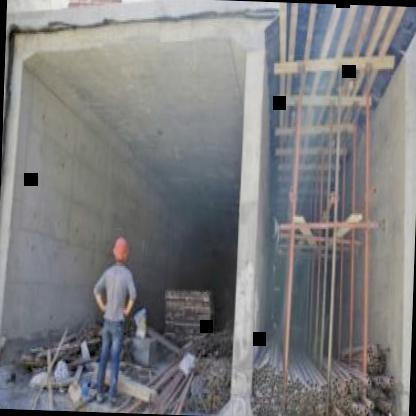helmet: (113, 235, 129, 266)
